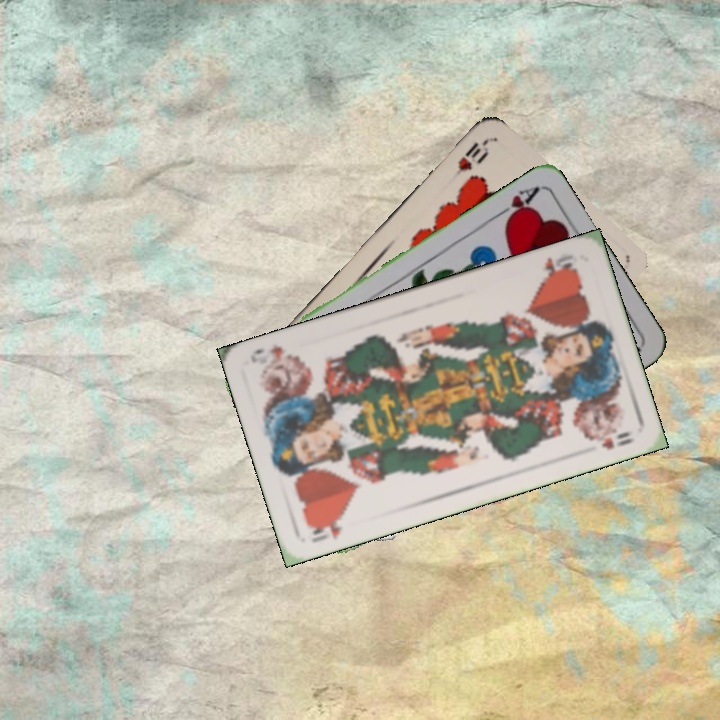H10: (446, 136, 491, 183)
HA: (489, 183, 542, 227)
HO: (304, 511, 348, 546), (538, 250, 579, 282)
